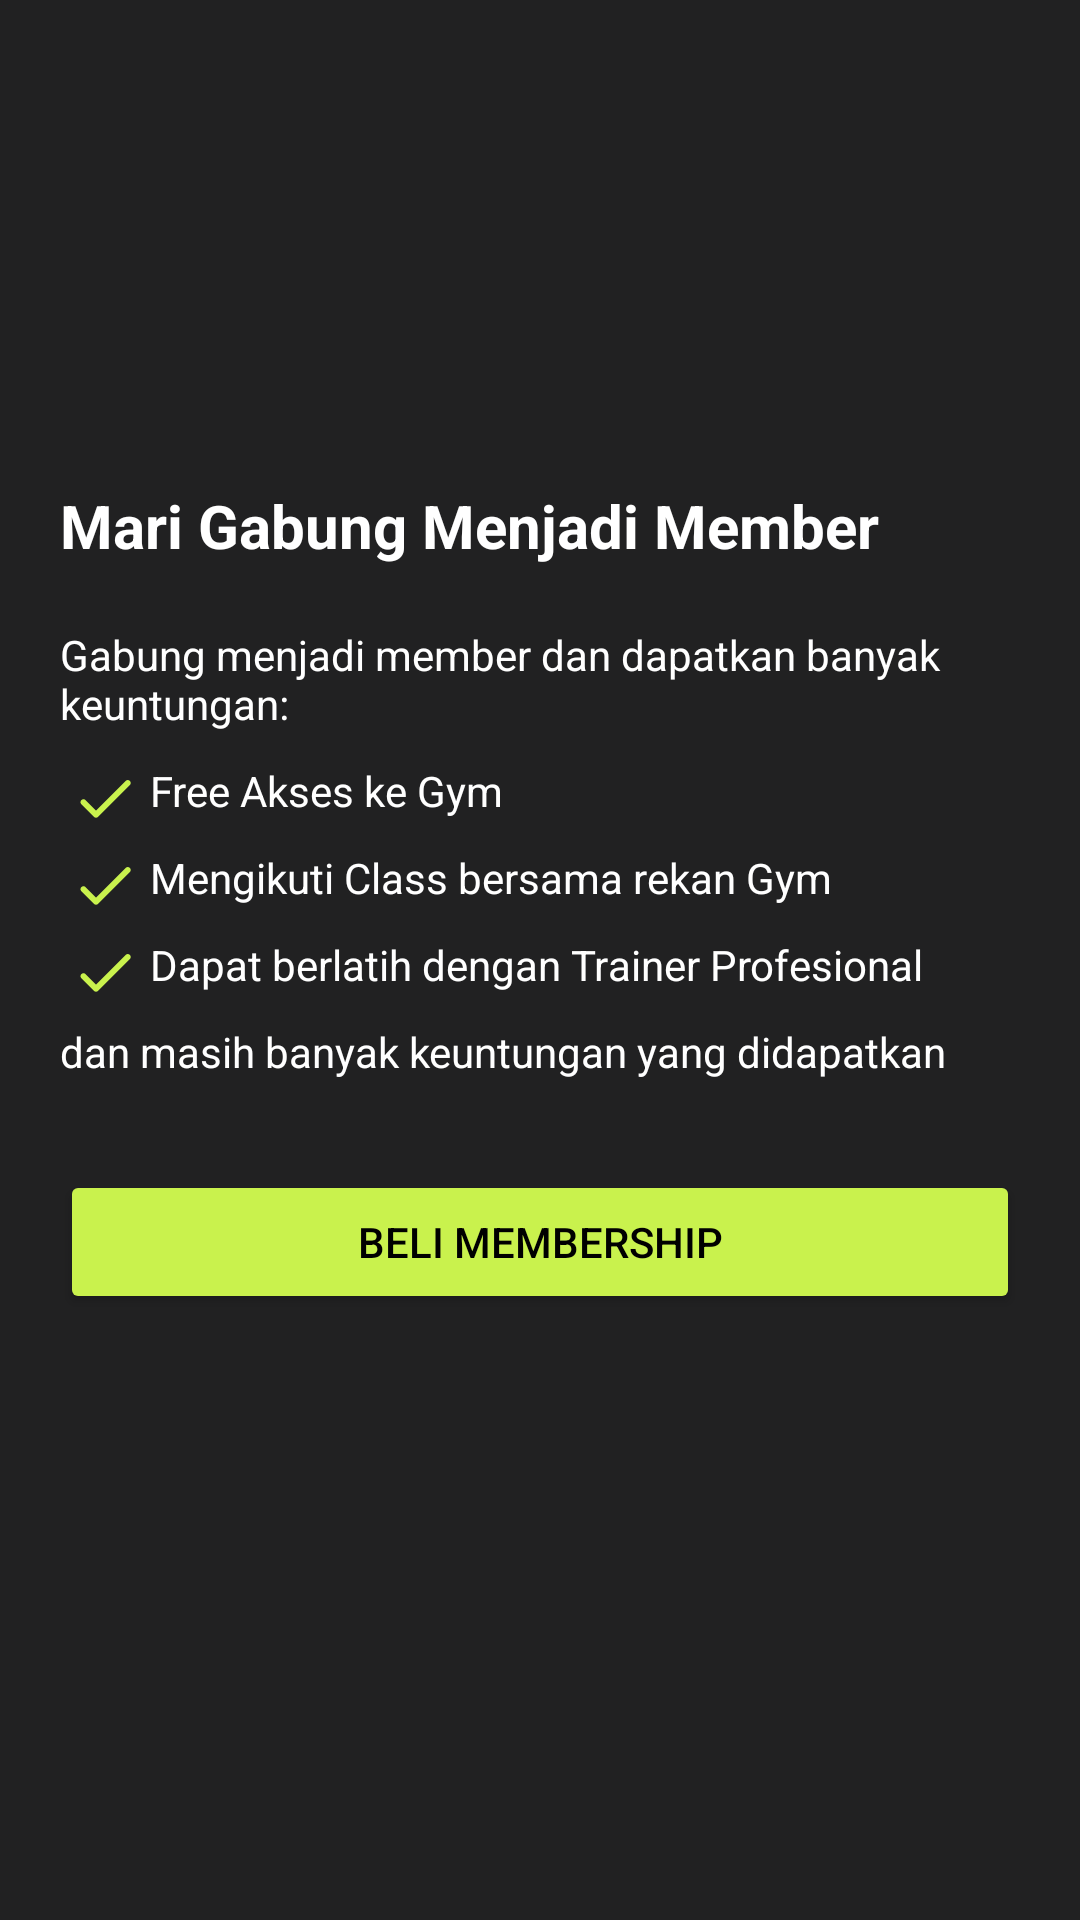

Named icons in this screenshot (1080*1920) and their bounding boxes, (x1, y1, x2, y2):
check: (80, 780, 131, 818), (80, 867, 131, 905), (80, 954, 131, 992)
